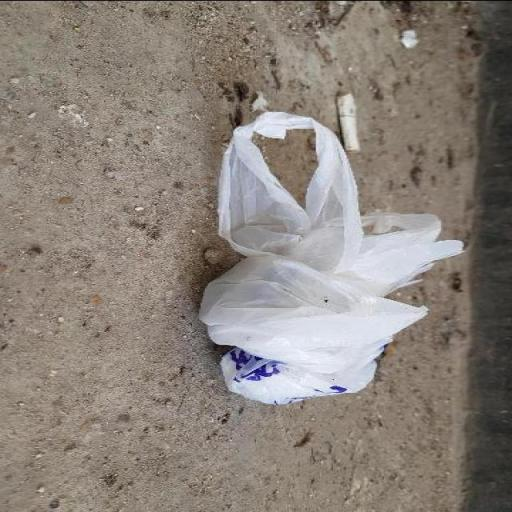plastic-bag: (195, 110, 467, 407)
